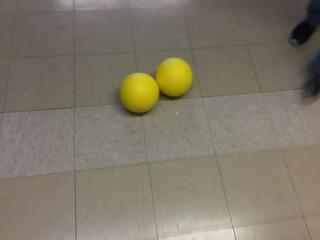power_cell: (115, 72, 161, 115), (156, 55, 196, 99)
